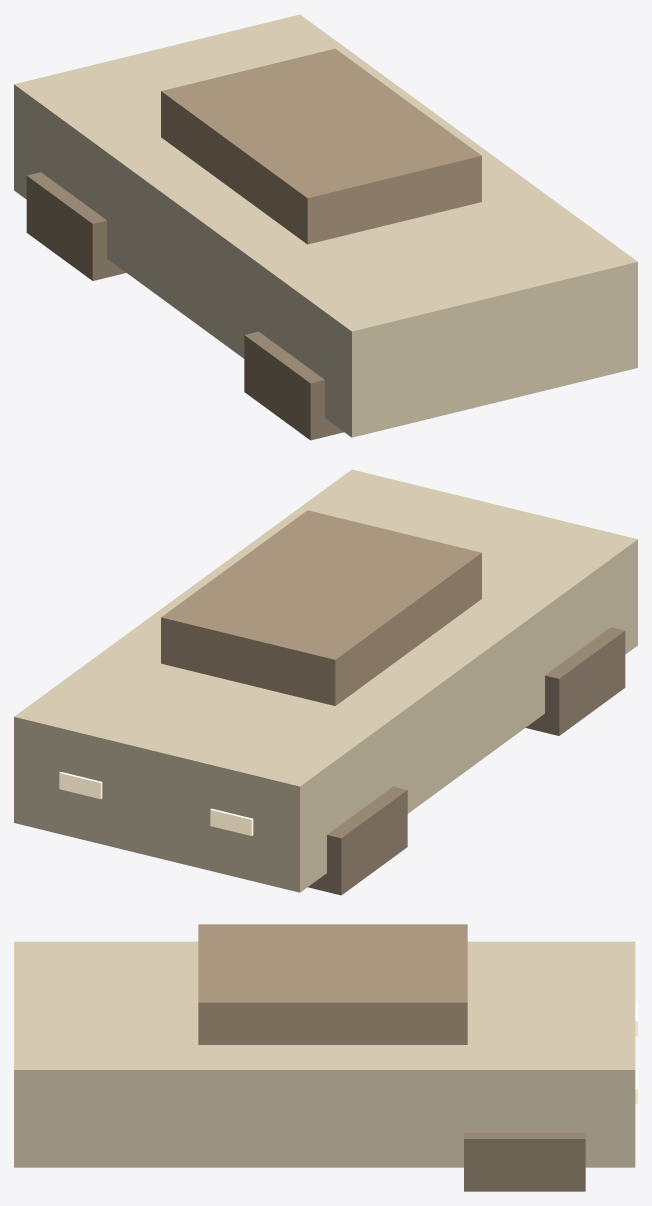
The model's file is traffic-car.gltf.
3 views of the same model, one above another, from view 1: azimuth 30°, elevation 25°; view 2: azimuth 150°, elevation 25°; view 3: azimuth 270°, elevation 25° (orthographic). The views are drawn at different scales.
Visible parts, largest first — view 1: TrafficBody, TrafficCabin, TrafficWheelFrontLeft, TrafficWheelRearLeft; view 2: TrafficBody, TrafficCabin, TrafficWheelRearLeft, TrafficWheelFrontLeft, TrafficLightLeft, TrafficLightRight; view 3: TrafficBody, TrafficCabin, TrafficWheelFrontRight.
Boxes of the visible parts, x1,y1,x2,y2 form: TrafficBody: (14,14,637,437); TrafficCabin: (161,48,481,244); TrafficWheelFrontLeft: (26,172,126,280); TrafficWheelRearLeft: (244,331,343,440); TrafficBody: (14,469,637,892); TrafficCabin: (161,510,481,705); TrafficWheelRearLeft: (525,627,625,735); TrafficWheelFrontLeft: (308,786,407,895); TrafficLightLeft: (210,808,253,835); TrafficLightRight: (59,772,102,799); TrafficBody: (14,941,635,1167); TrafficCabin: (198,924,467,1044); TrafficWheelFrontRight: (464,1132,585,1191).
Size of the model in its own units: 2.42 by 1.26 by 4.52.
